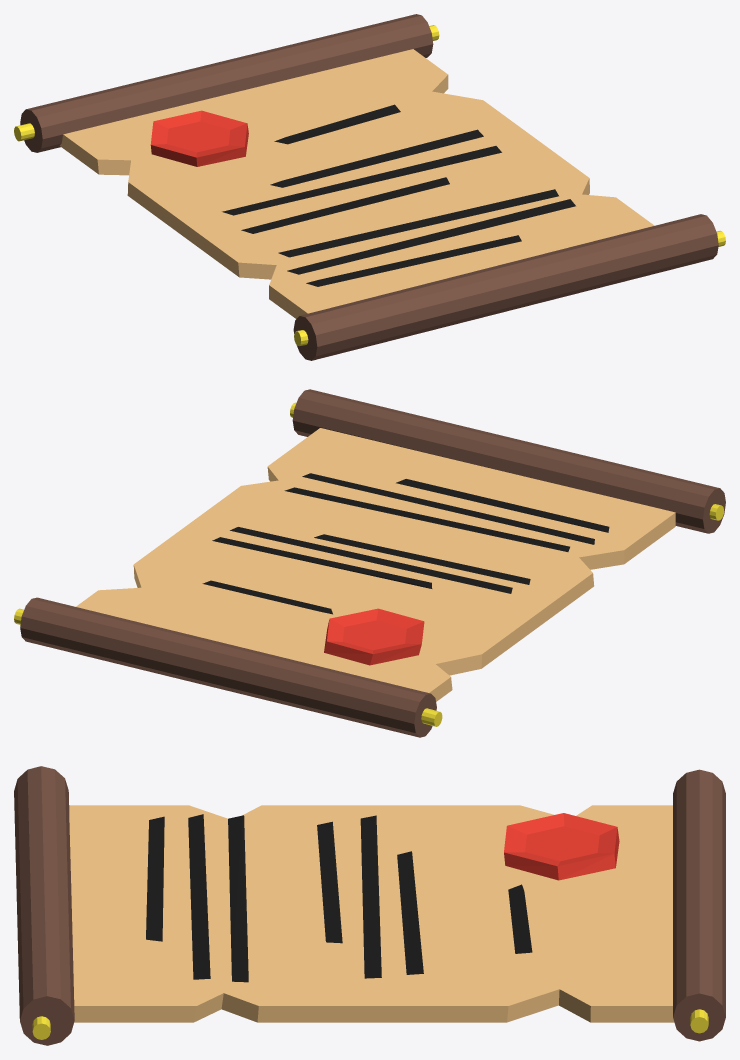
The model's file is note.fbx.
3 renders of one model, top to bottom at view 1: azimuth 30°, elevation 25°; view 2: azimuth 150°, elevation 25°; view 3: azimuth 270°, elevation 25°, orthographic. The views are drawn at different scales.
Visible parts, largest first — view 1: Node; view 2: Node; view 3: Node.
Boxes of the visible parts, x1=… form: Node: x1=14, y1=14, x2=725, y2=360; Node: x1=14, y1=389, x2=725, y2=737; Node: x1=14, y1=766, x2=725, y2=1045.
Size of the model in its own units: 322 by 31.67 by 399.
